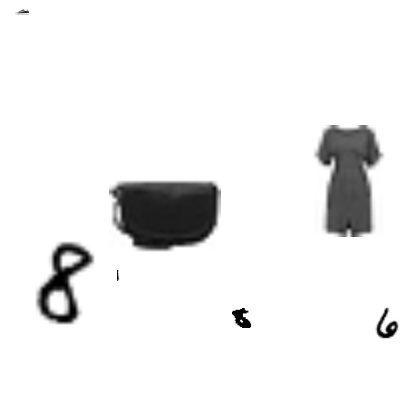1: (106, 262, 128, 284)
6: (365, 305, 407, 347)
8: (5, 223, 117, 335), (227, 304, 255, 332)
Bag: (109, 158, 221, 270), (61, 255, 75, 269)
Dress: (291, 125, 403, 237)
Sneaker: (15, 5, 29, 19)
